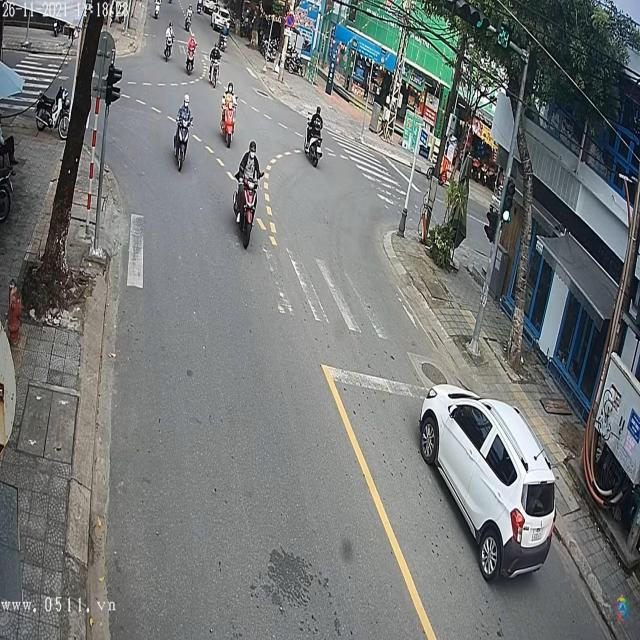car: (417, 386, 560, 582)
motorcycle: (232, 166, 262, 249), (172, 100, 196, 172), (221, 95, 238, 152), (306, 135, 322, 167), (184, 44, 197, 76), (209, 54, 219, 88), (163, 33, 173, 63)
